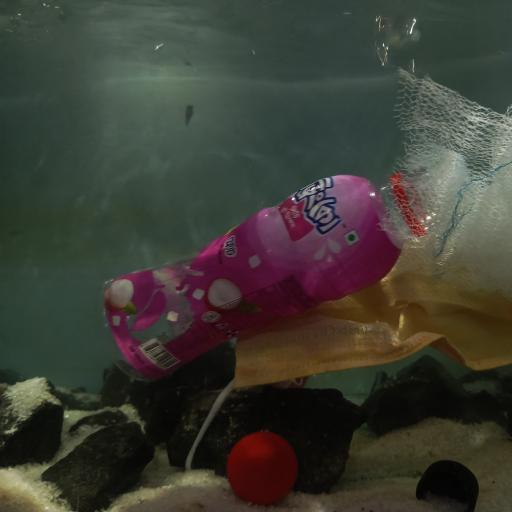bottle_cap: (227, 428, 299, 504), (417, 458, 479, 508)
mask: (230, 237, 510, 424)
net: (385, 60, 512, 299)
plastic_bottle: (98, 174, 438, 385)
